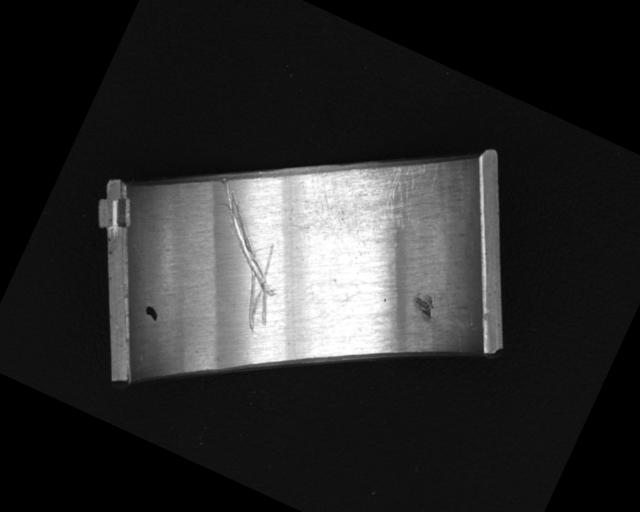blot: (140, 303, 161, 323)
bruise: (408, 290, 441, 323)
nick: (169, 178, 316, 339)
scratch: (309, 126, 444, 256)
